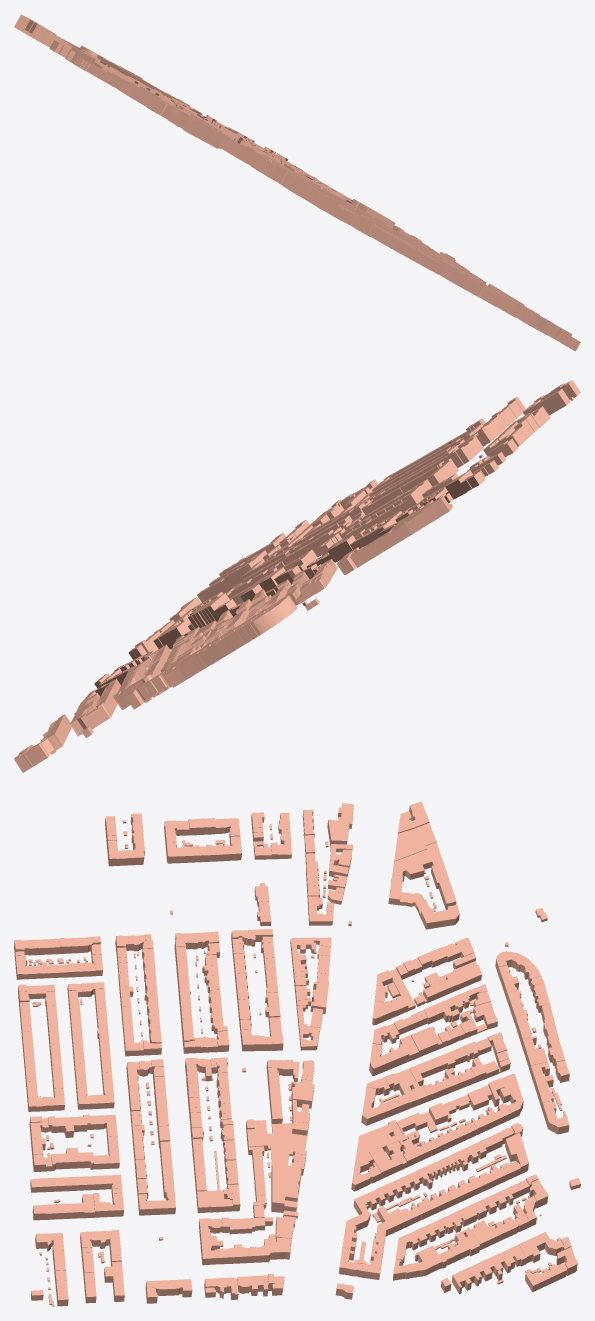
The picture shows the model from 3 angles, top to bottom: view 1: azimuth 30°, elevation 25°; view 2: azimuth 150°, elevation 25°; view 3: azimuth 270°, elevation 25°; orthographic projection. The views are drawn at different scales.
Bounding box in the file's own units: 522 × 384 × 627.
